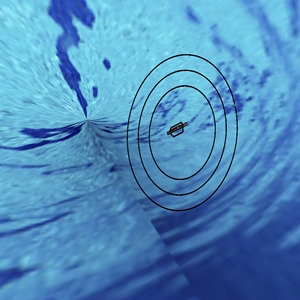circle: (114, 34, 252, 225)
submarine: (165, 116, 194, 148)
